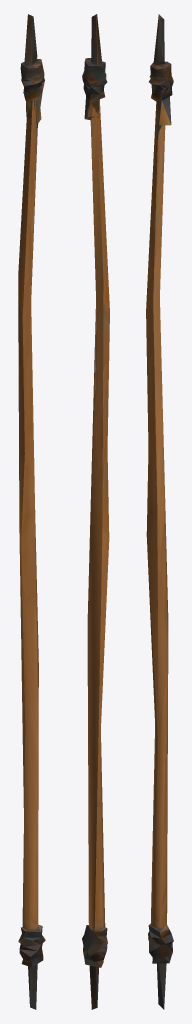
The model's file is gear_roman_cavalry_lance_2.glb.
The picture shows the model from 3 angles, left to right: view 1: azimuth 30°, elevation 25°; view 2: azimuth 150°, elevation 25°; view 3: azimuth 330°, elevation 25°; orthographic projection.
Visible parts, largest first — view 1: MeshyGear_gear_roman_cavalry_lance; view 2: MeshyGear_gear_roman_cavalry_lance; view 3: MeshyGear_gear_roman_cavalry_lance.
Part boxes in pixels (bbox=[...]): MeshyGear_gear_roman_cavalry_lance: bbox=[18, 14, 45, 1009]; MeshyGear_gear_roman_cavalry_lance: bbox=[82, 14, 109, 1009]; MeshyGear_gear_roman_cavalry_lance: bbox=[146, 14, 173, 1009].
Bounding box in the file's own units: 0.0619 × 2.29 × 0.0481.
Materials: 1 (1 with a texture image).
